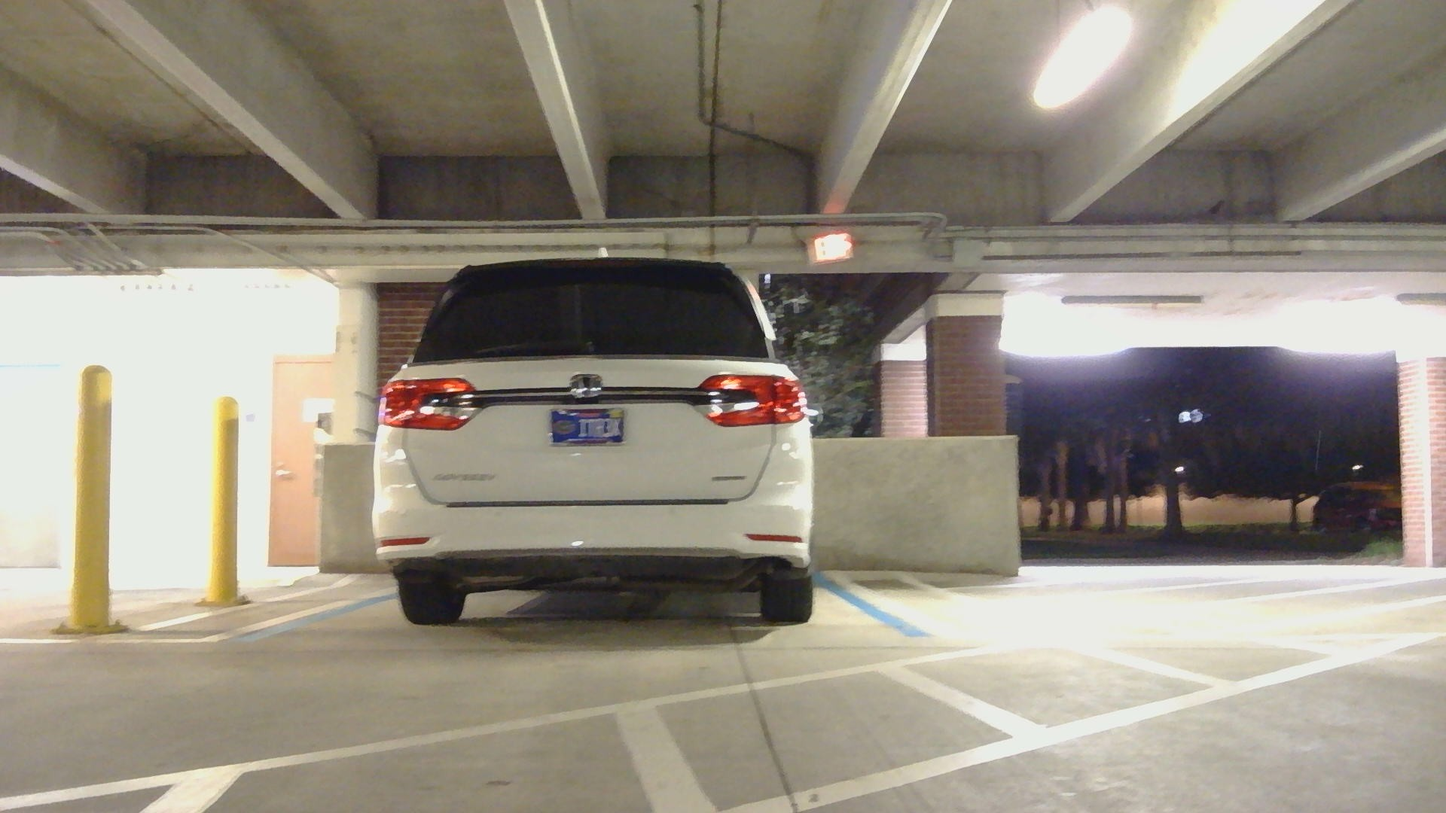occupied_spot: (337, 250, 877, 622)
